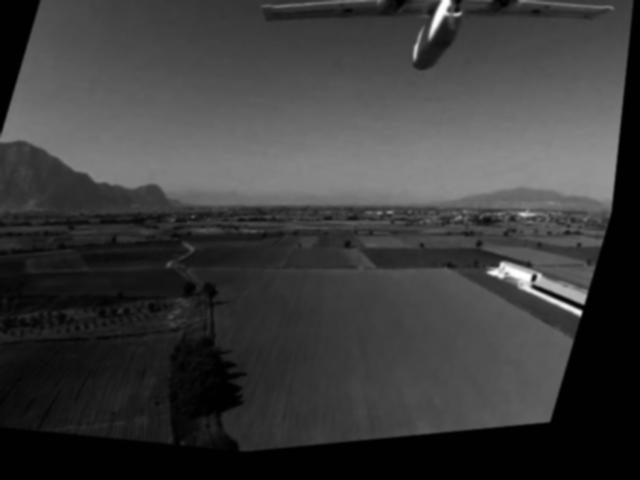hedef: (239, 0, 624, 127)
